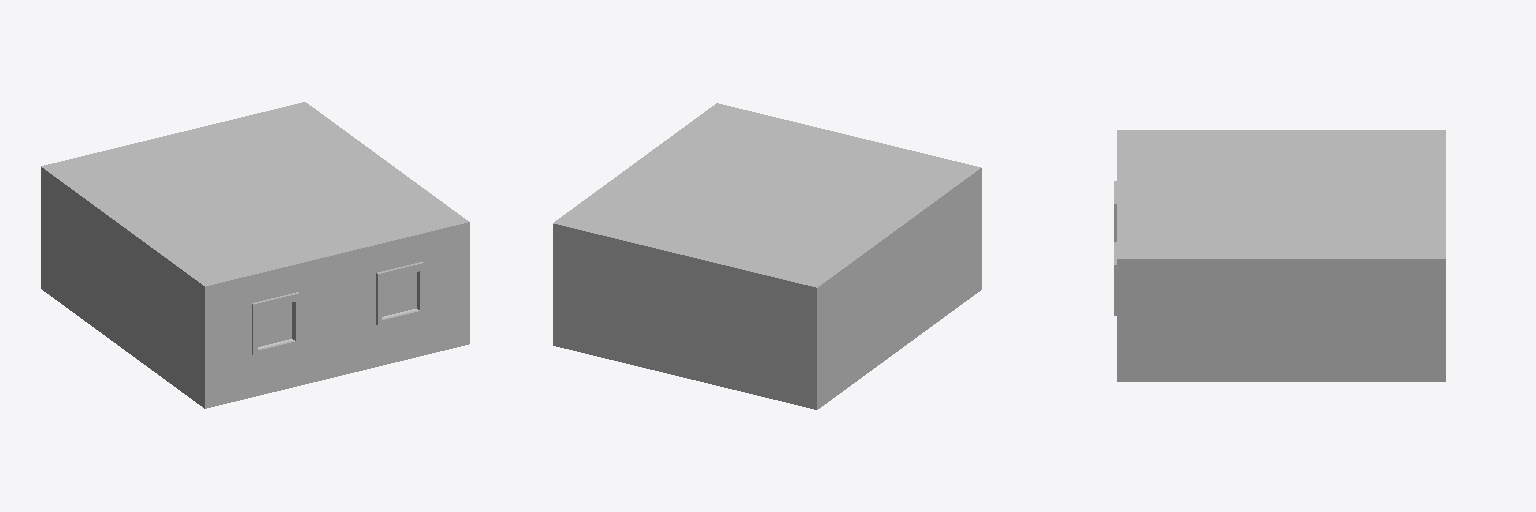
Rendered from secondFloorHouse.obj.
3 views of the same model, side by side, from view 1: azimuth 30°, elevation 25°; view 2: azimuth 150°, elevation 25°; view 3: azimuth 270°, elevation 25° (orthographic).
Visible parts, largest first — view 1: Cube; view 2: Cube; view 3: Cube.
Part boxes in pixels (left/top/right/bottom): Cube: left=41, top=102, right=469, bottom=408; Cube: left=553, top=103, right=981, bottom=409; Cube: left=1114, top=130, right=1445, bottom=381.
Size of the model in its own units: 3.66 by 1.62 by 3.98.